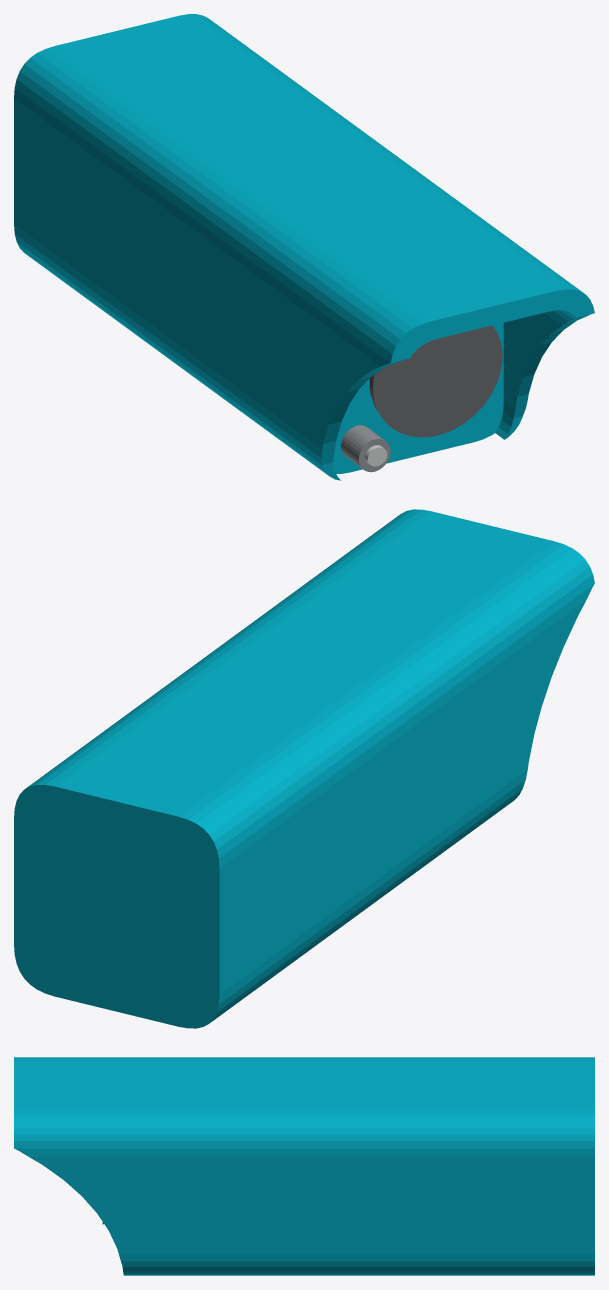
The model's file is Cameras - planned.glb.
3 renders of one model, top to bottom at view 1: azimuth 30°, elevation 25°; view 2: azimuth 150°, elevation 25°; view 3: azimuth 270°, elevation 25°, orthographic. The views are drawn at different scales.
Visible parts, largest first — view 1: Mesh_Mesh_head_geo.001_lambert2SG.001; view 2: Mesh_Mesh_head_geo.001_lambert2SG.001; view 3: Mesh_Mesh_head_geo.001_lambert2SG.001.
Part boxes in pixels (x1,y1,x2,y2): Mesh_Mesh_head_geo.001_lambert2SG.001: [14, 14, 594, 480]; Mesh_Mesh_head_geo.001_lambert2SG.001: [14, 509, 594, 1028]; Mesh_Mesh_head_geo.001_lambert2SG.001: [14, 1057, 594, 1275].
Bounding box in the file's own units: 33.87 × 33.08 × 107.
